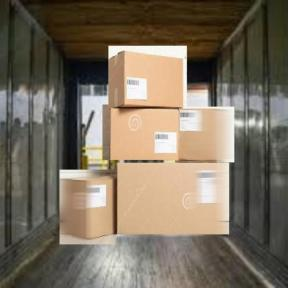box: (114, 162, 232, 235), (107, 44, 189, 112), (102, 104, 184, 161), (59, 169, 117, 246), (174, 106, 236, 163)
